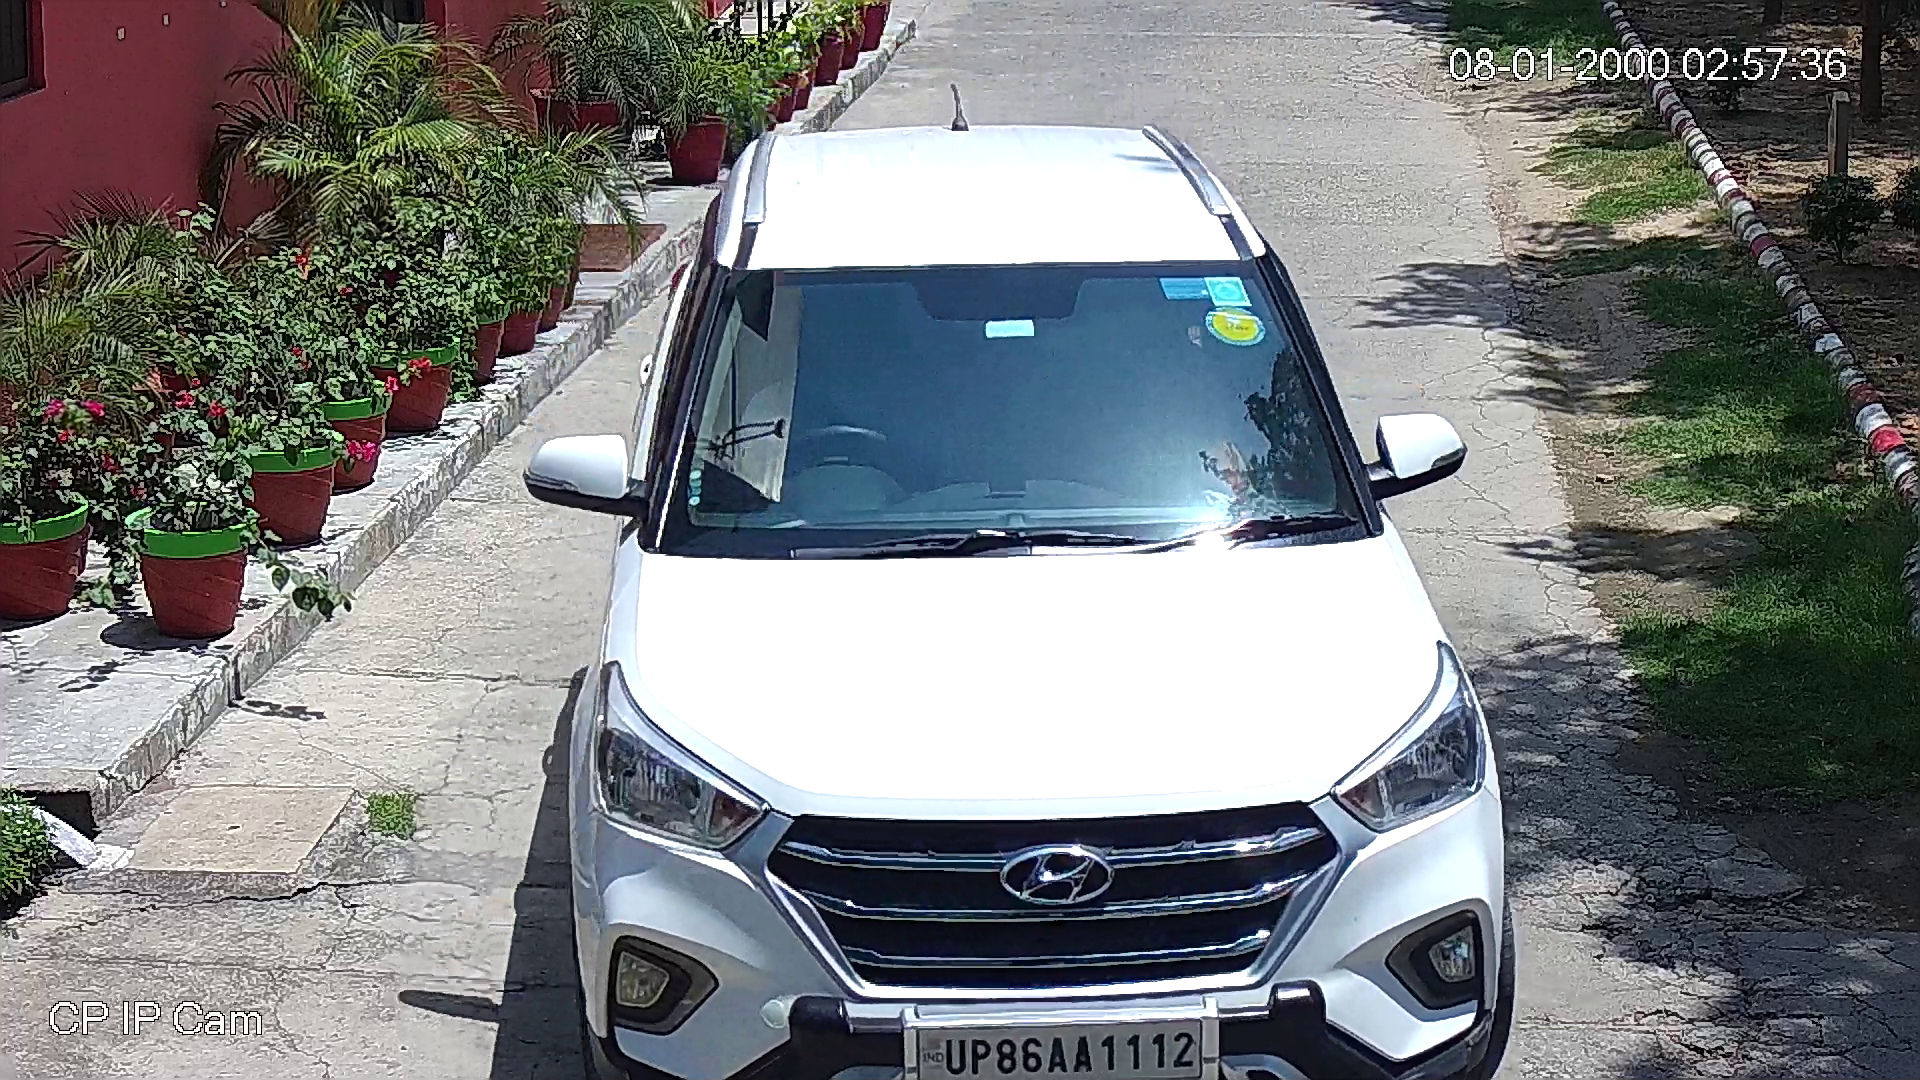plate: (902, 1016, 1217, 1080)
